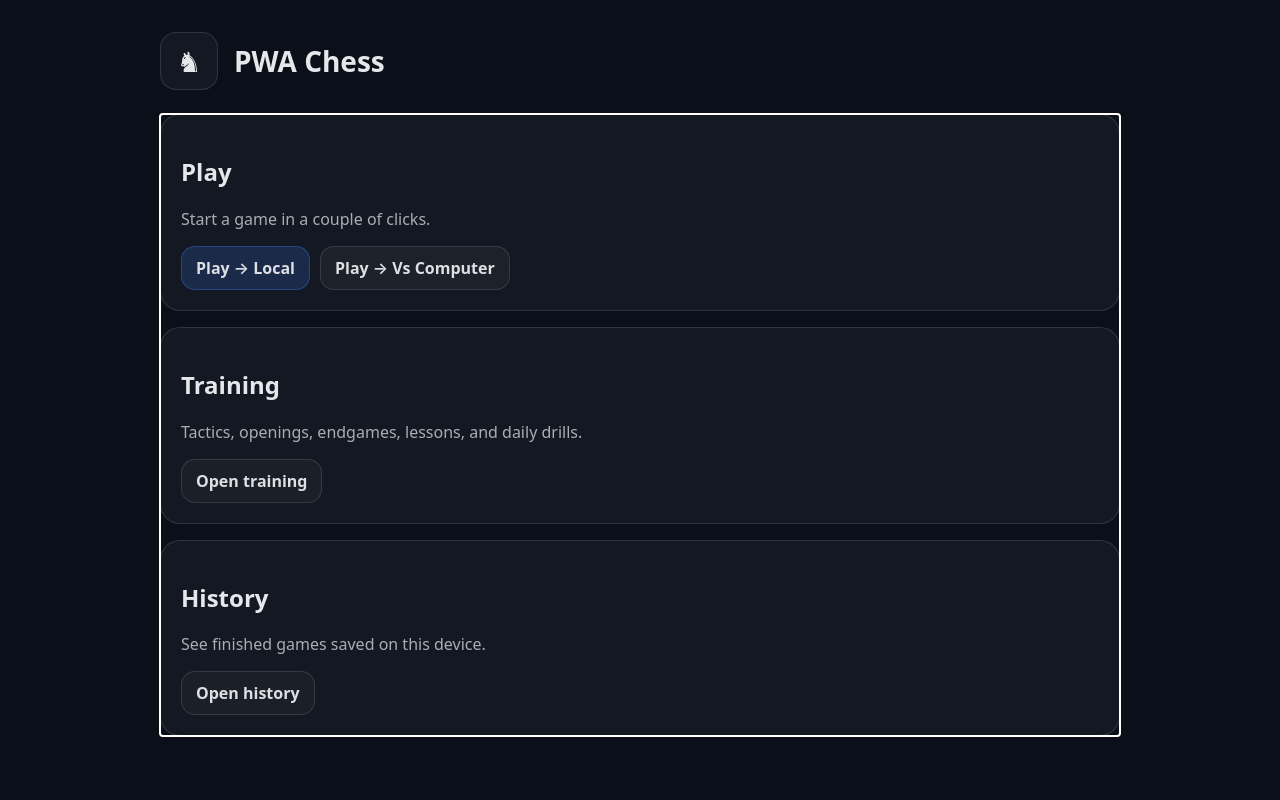
Test: TrainingHomePage › renders and lists built-in packs
Step 1. Click the link "Open training" → (252, 481), box [181,459,322,503]
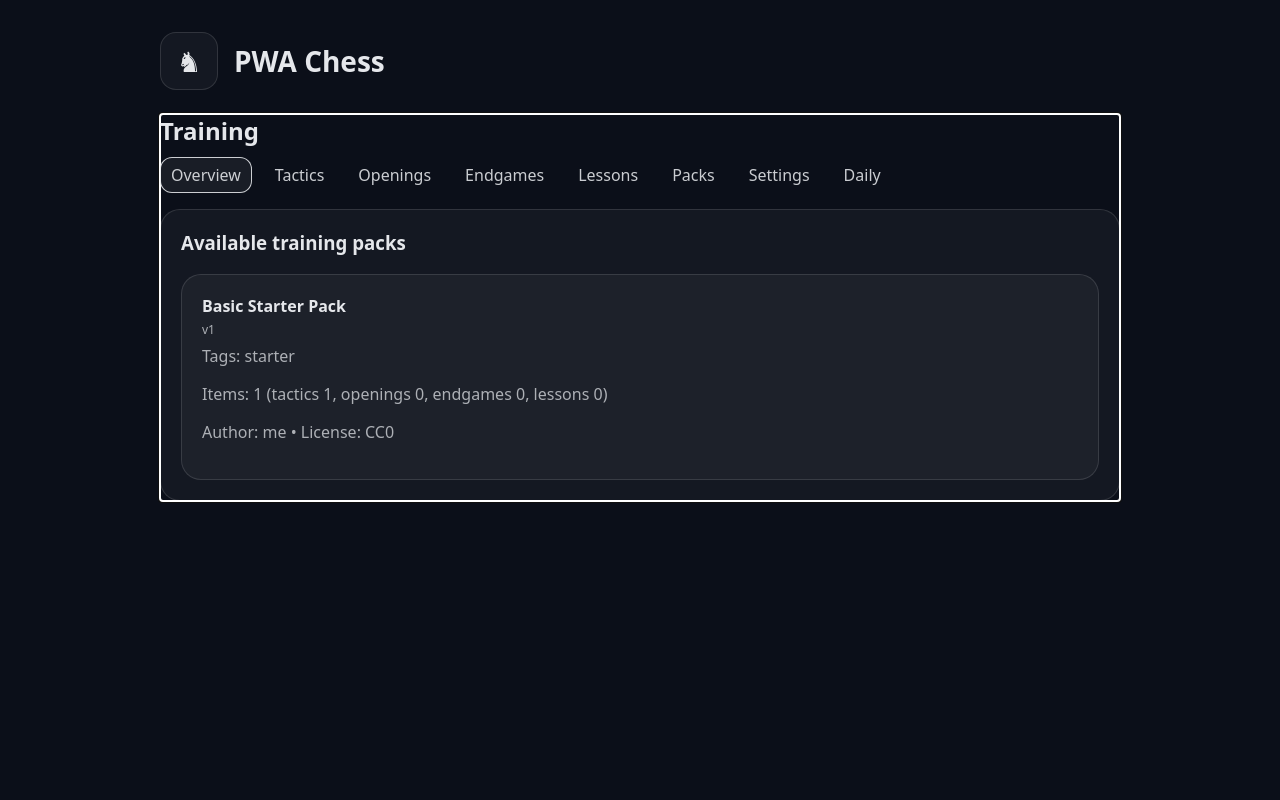
Expected: the heading "Training" is shown, [160,114,259,147]
Expected: the heading "Basic Starter Pack" is shown, [202,295,346,317]
